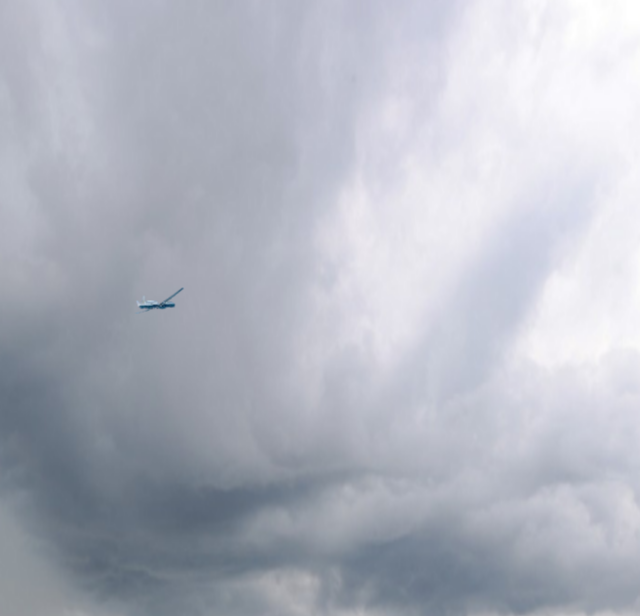military drone: (131, 286, 183, 315)
